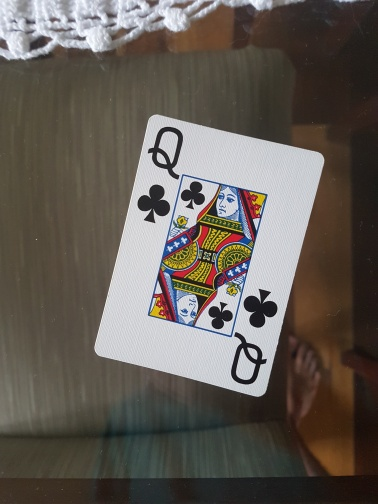queen: (95, 114, 326, 397)
